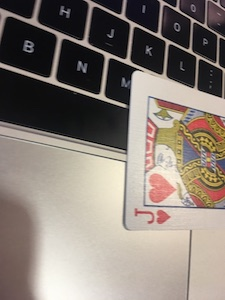JackOfHearts: (122, 68, 224, 237)
